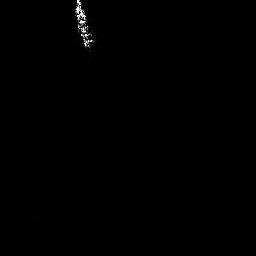ship: (70, 1, 98, 50)
